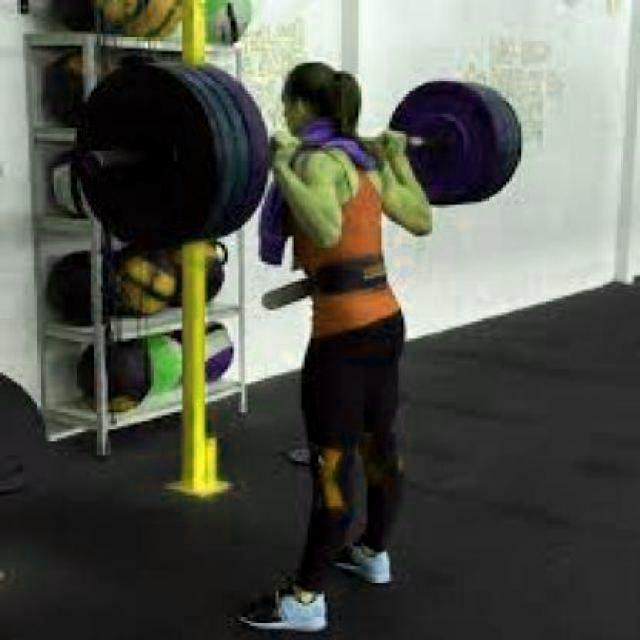barbell: (64, 56, 247, 280)
